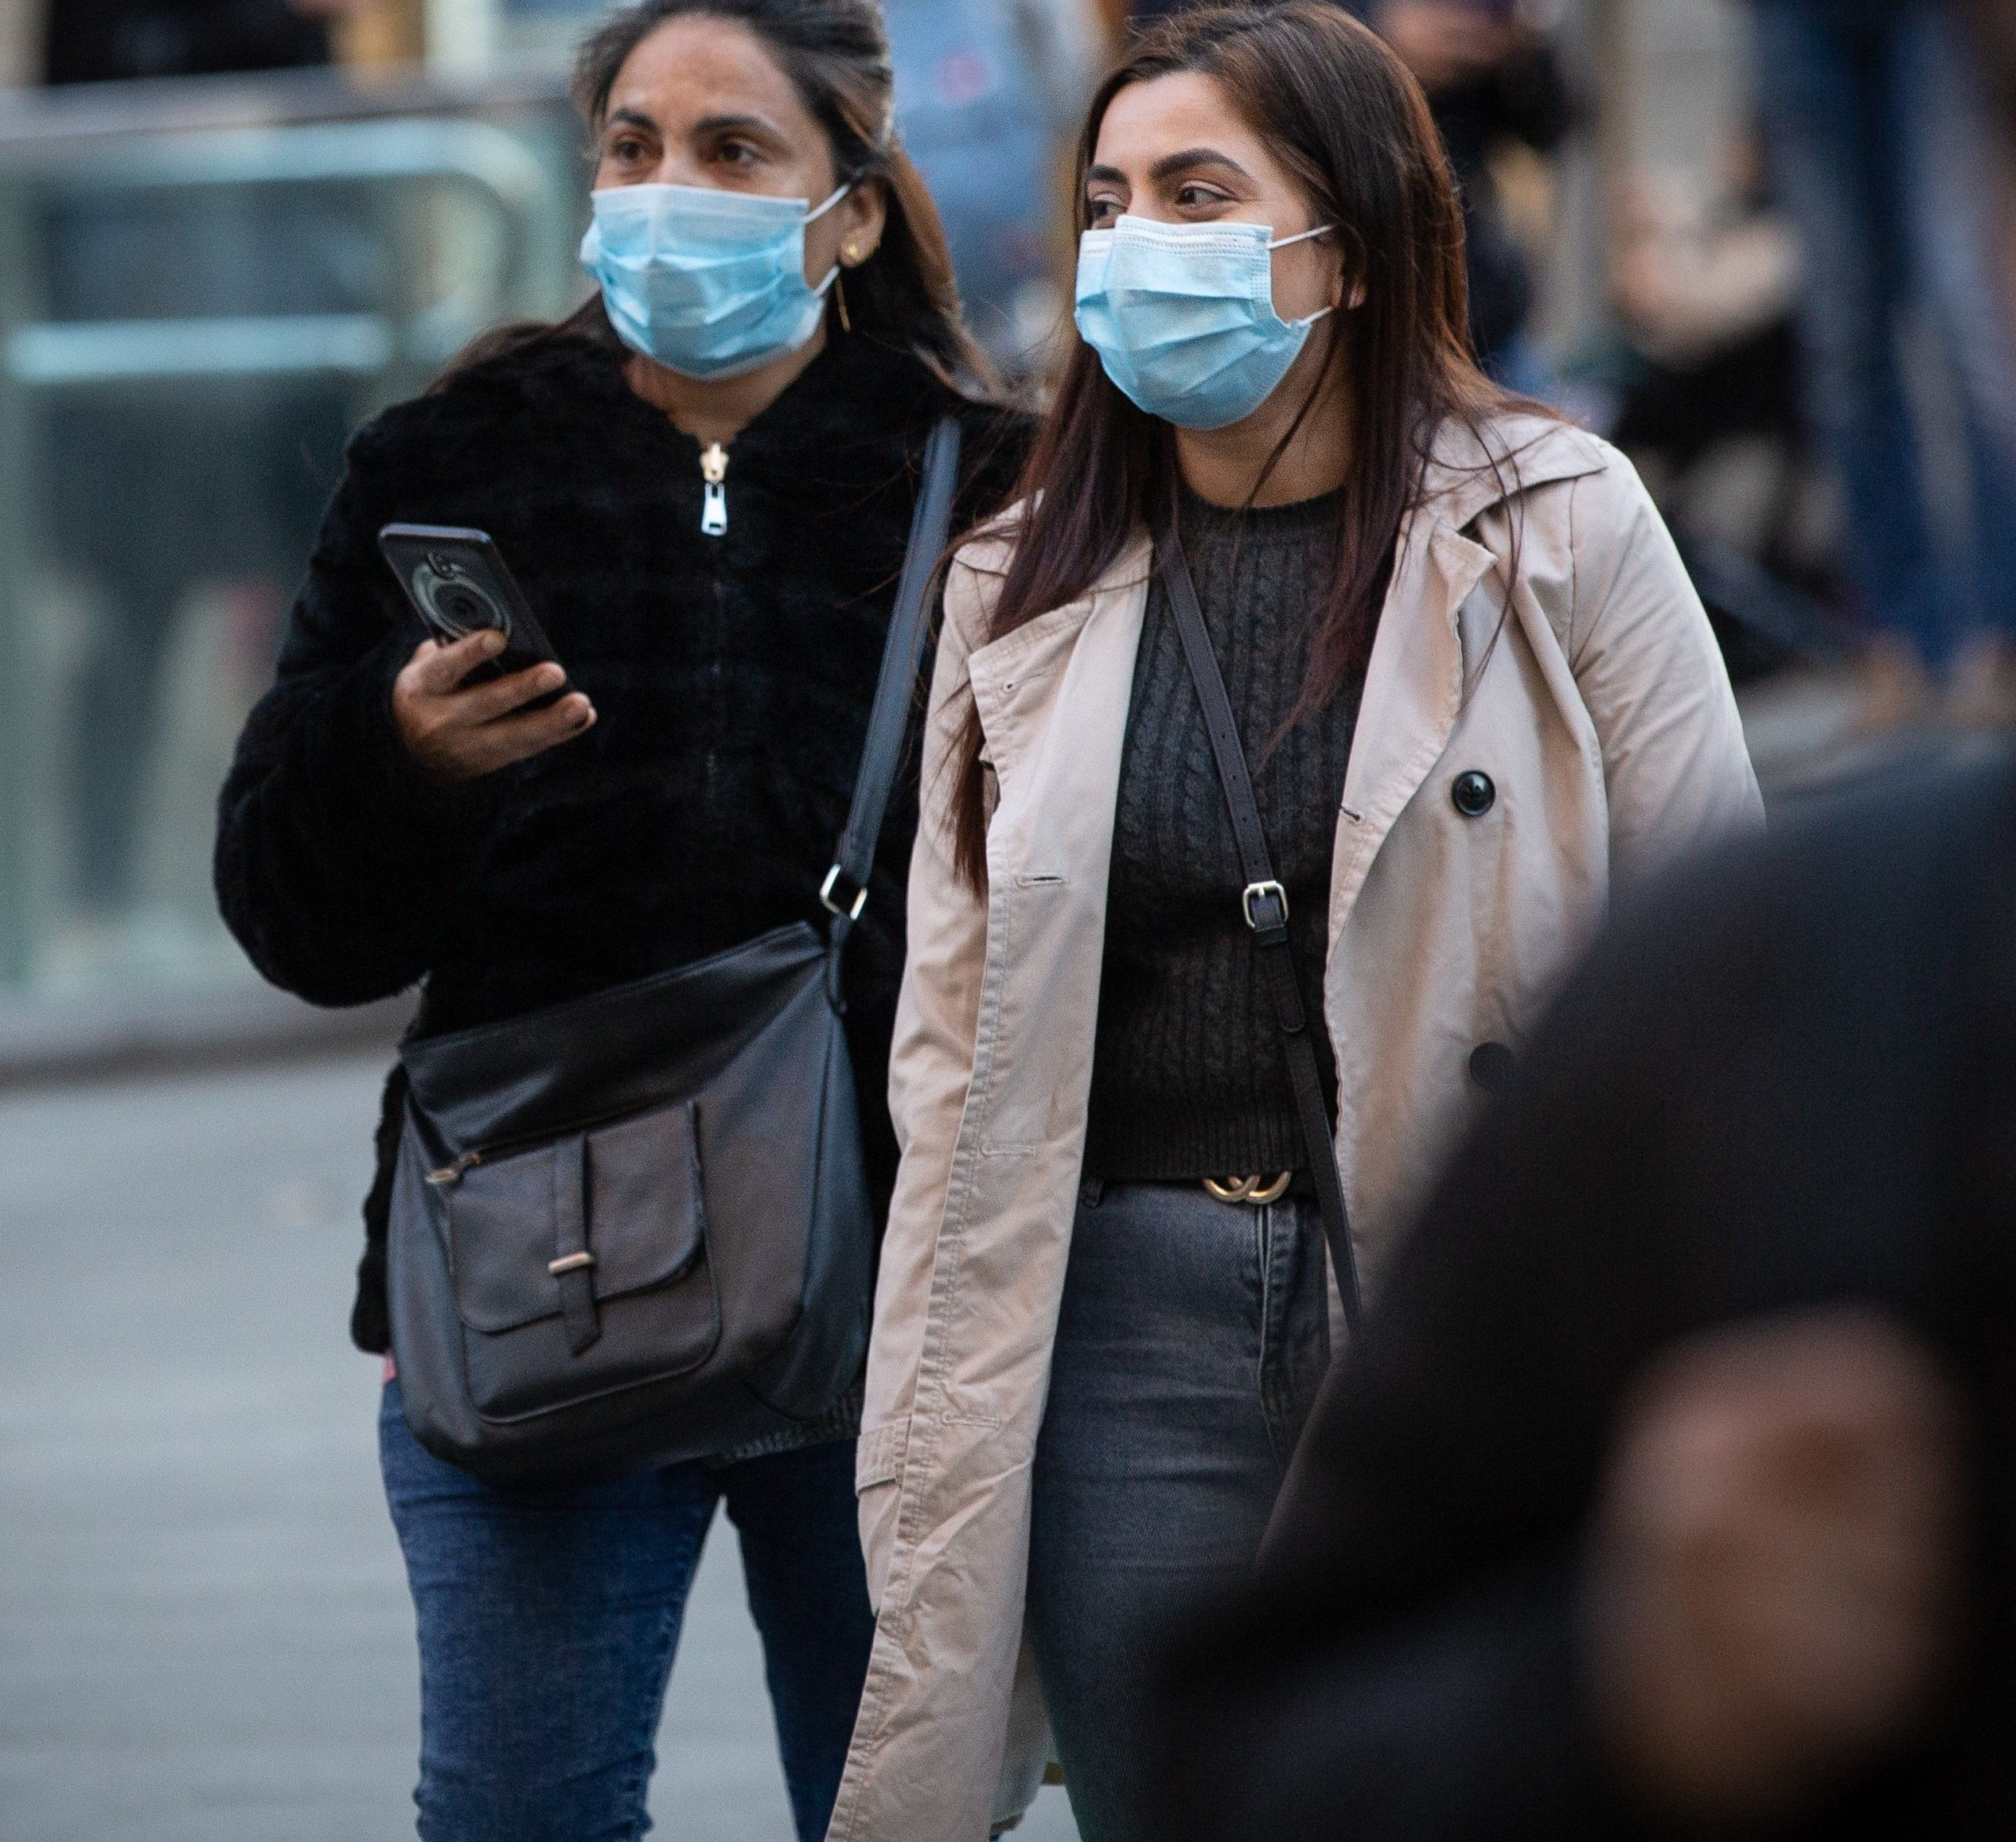with_mask: (1055, 49, 1456, 470), (557, 9, 887, 369)
